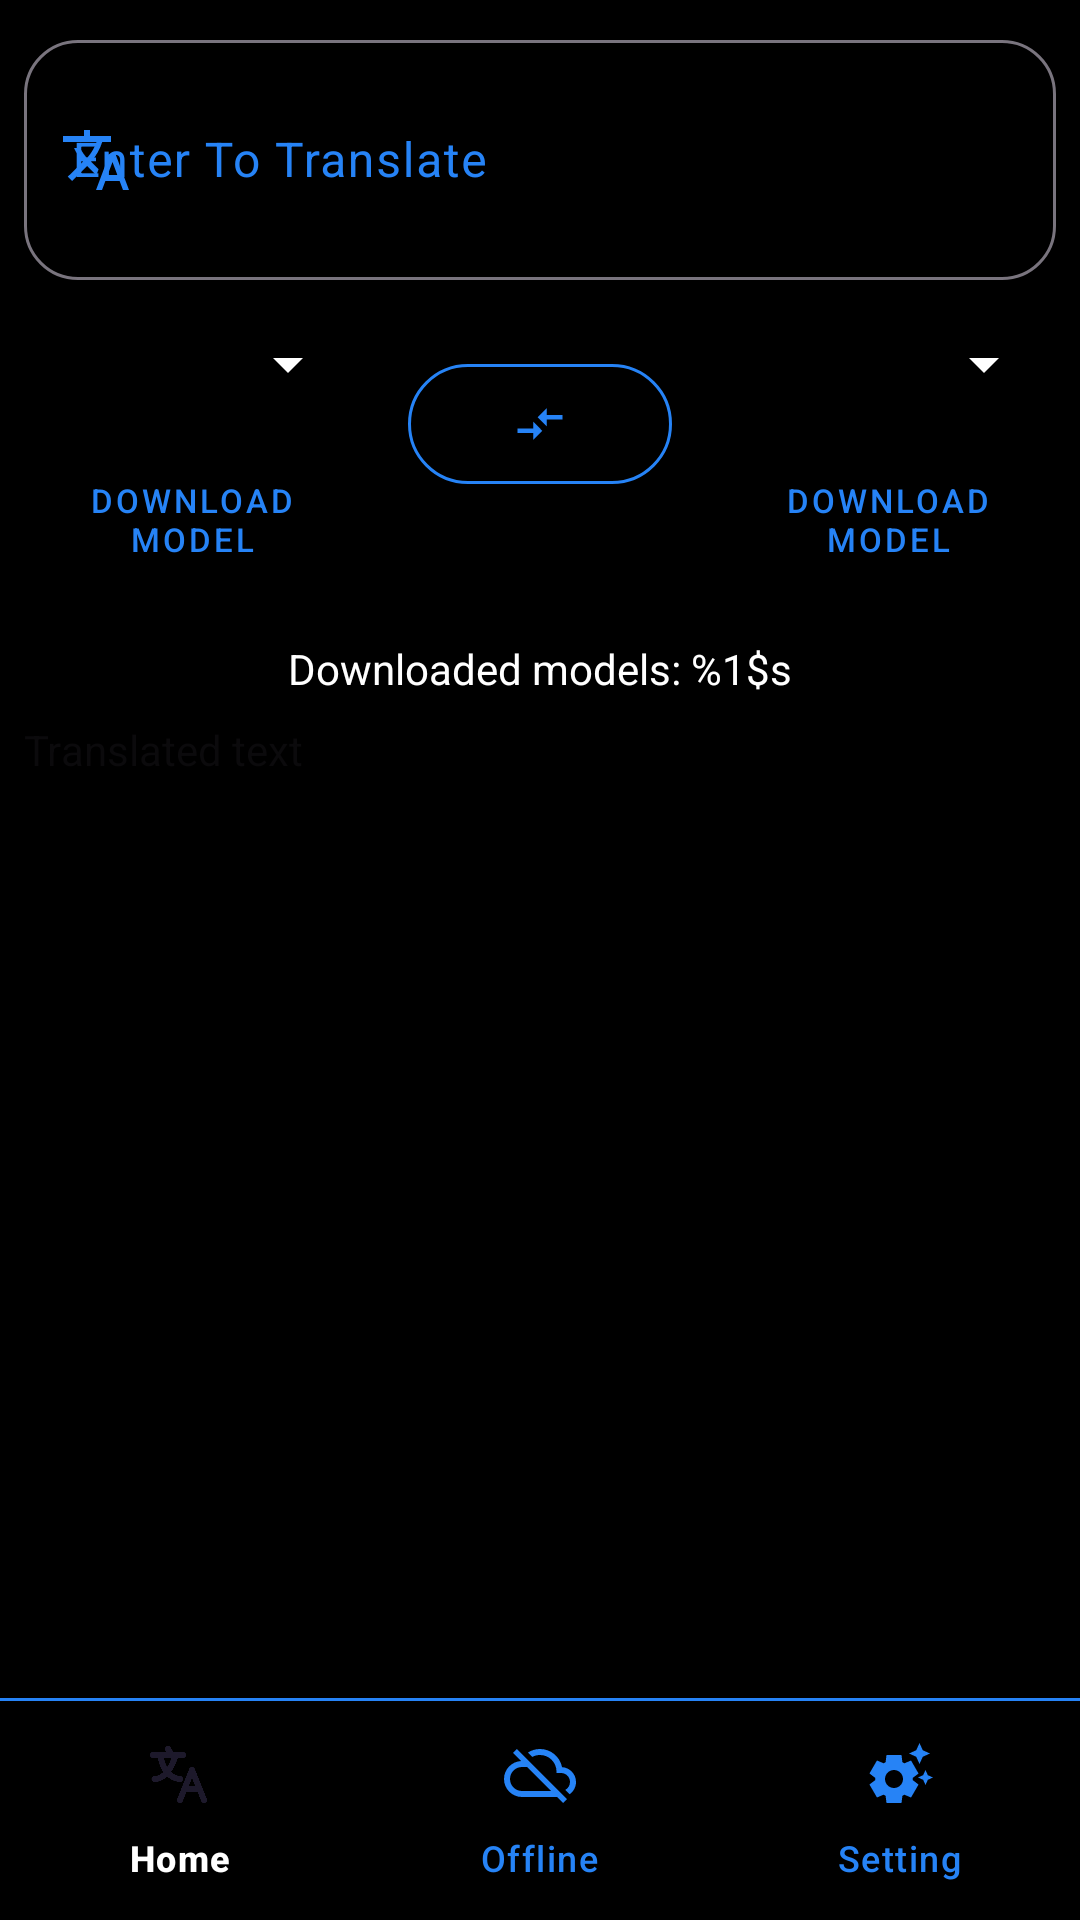

Icons on this 1080w x 1920h Android screen, each with its box as (x1, y1, x2, y2):
compare arrows: (408, 364, 672, 484)
